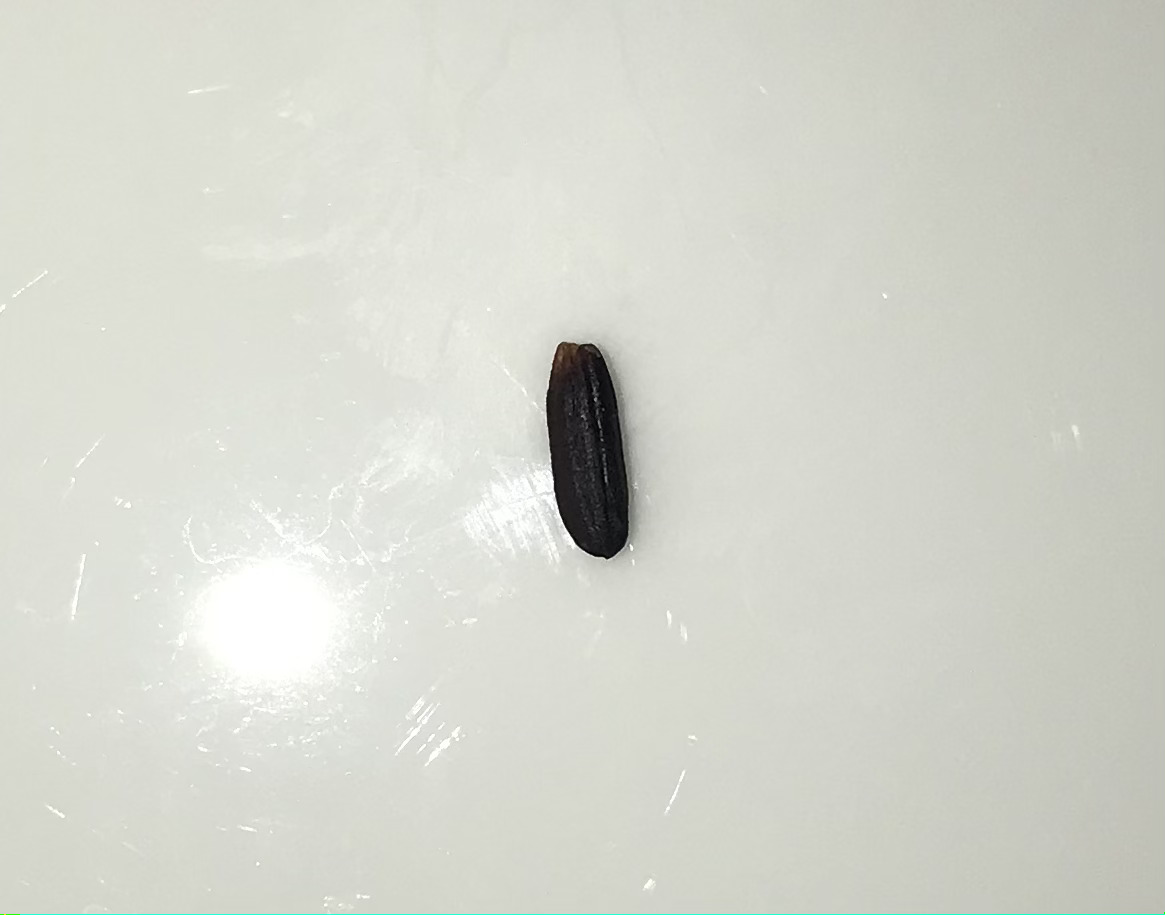Gao lut: (538, 337, 644, 563)
